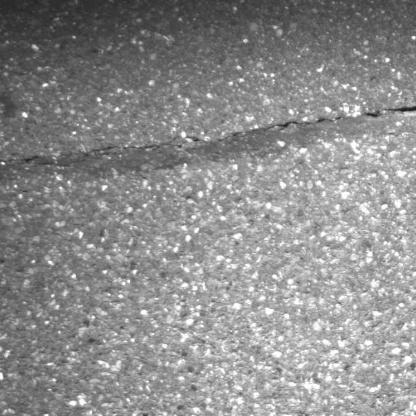Cracks: (249, 99, 416, 136)
